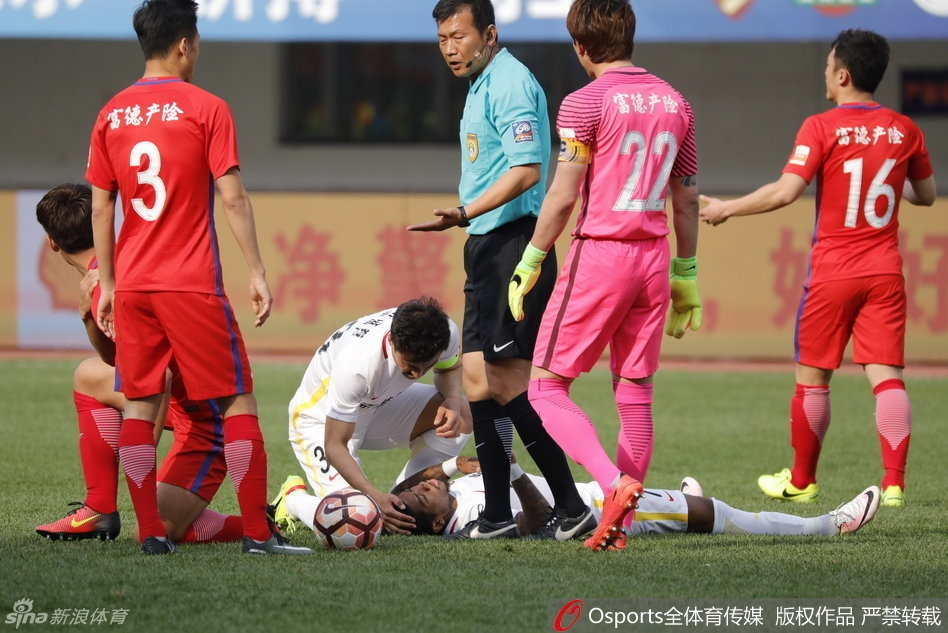falling: (342, 440, 896, 544)
